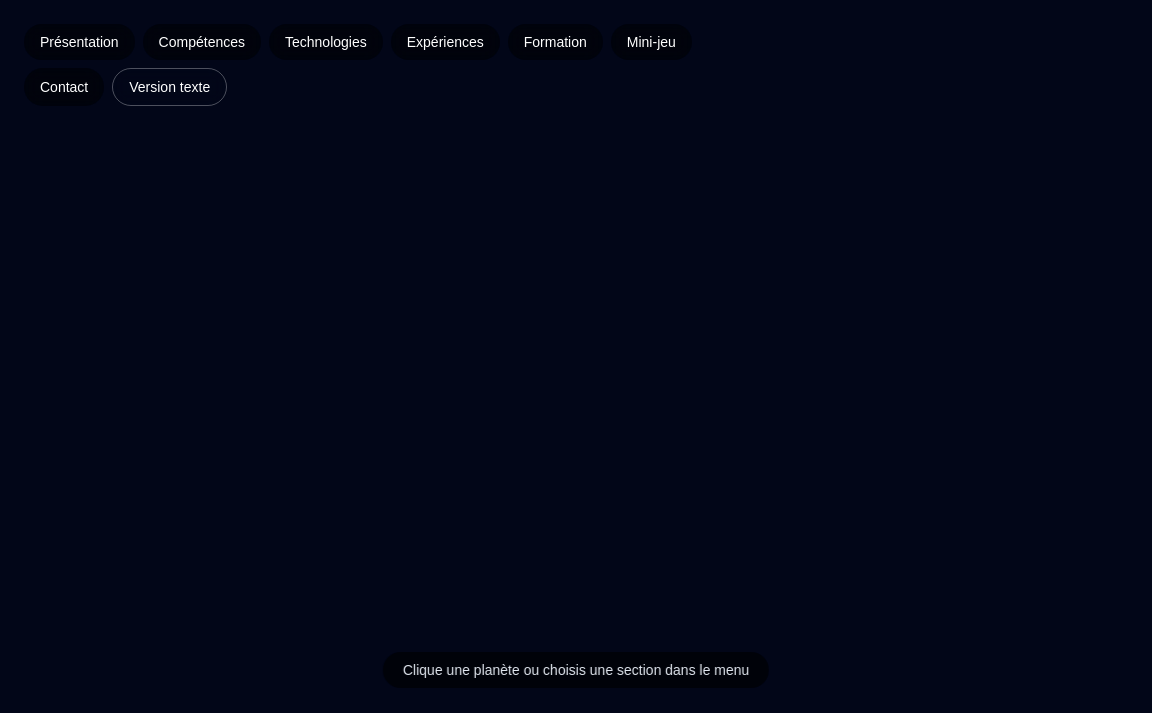
App › ouvre la version texte et ajoute #cv à l’adresse
This screenshot has width=1152, height=713.
Click the button "Version texte".
click(170, 87)  # box [112,68,227,106]
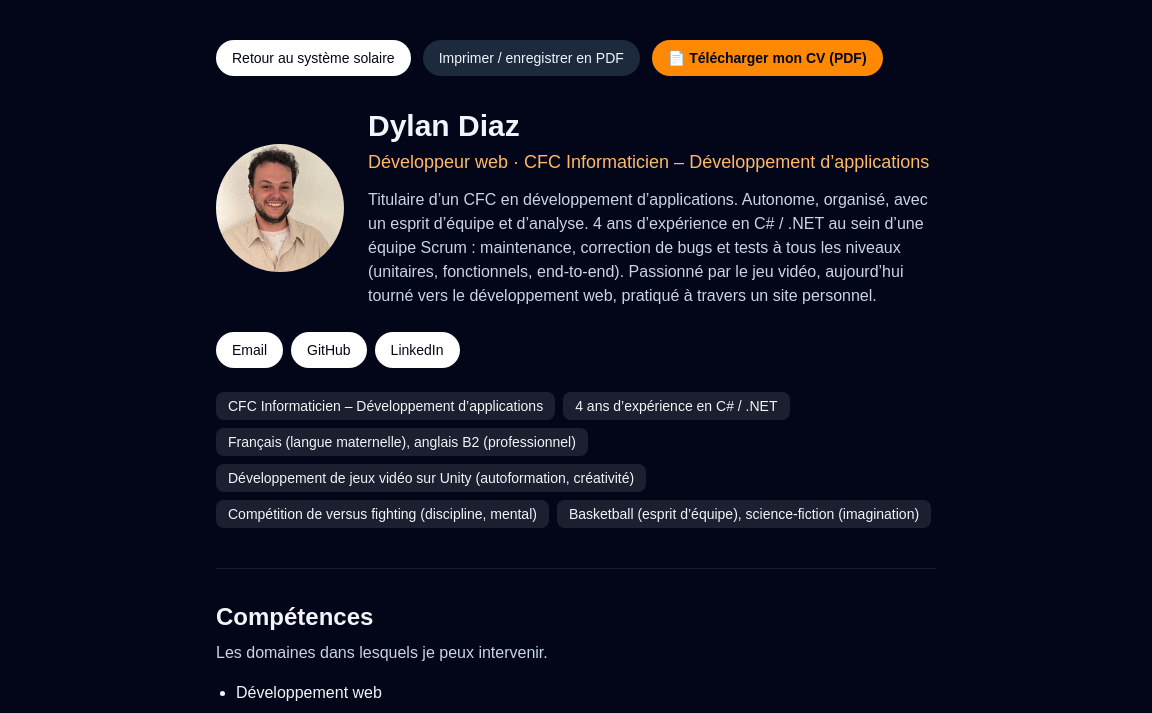
Now the heading "Dylan Diaz" is shown, box [368,109,520,142]
